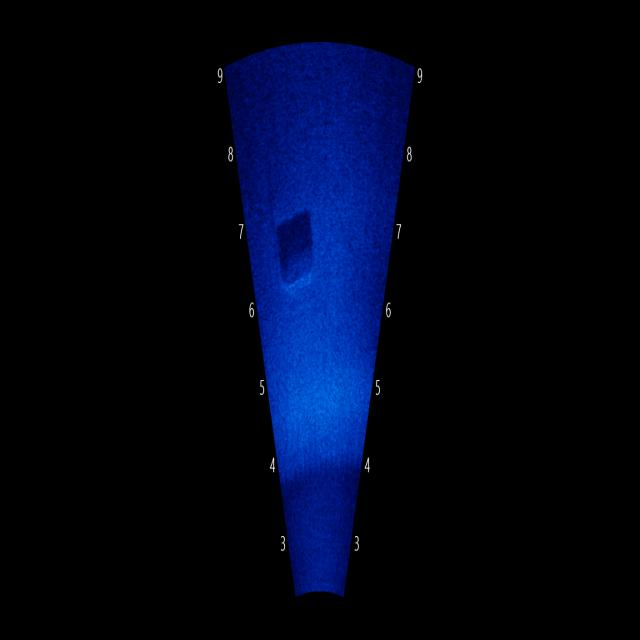square: (266, 198, 324, 306)
